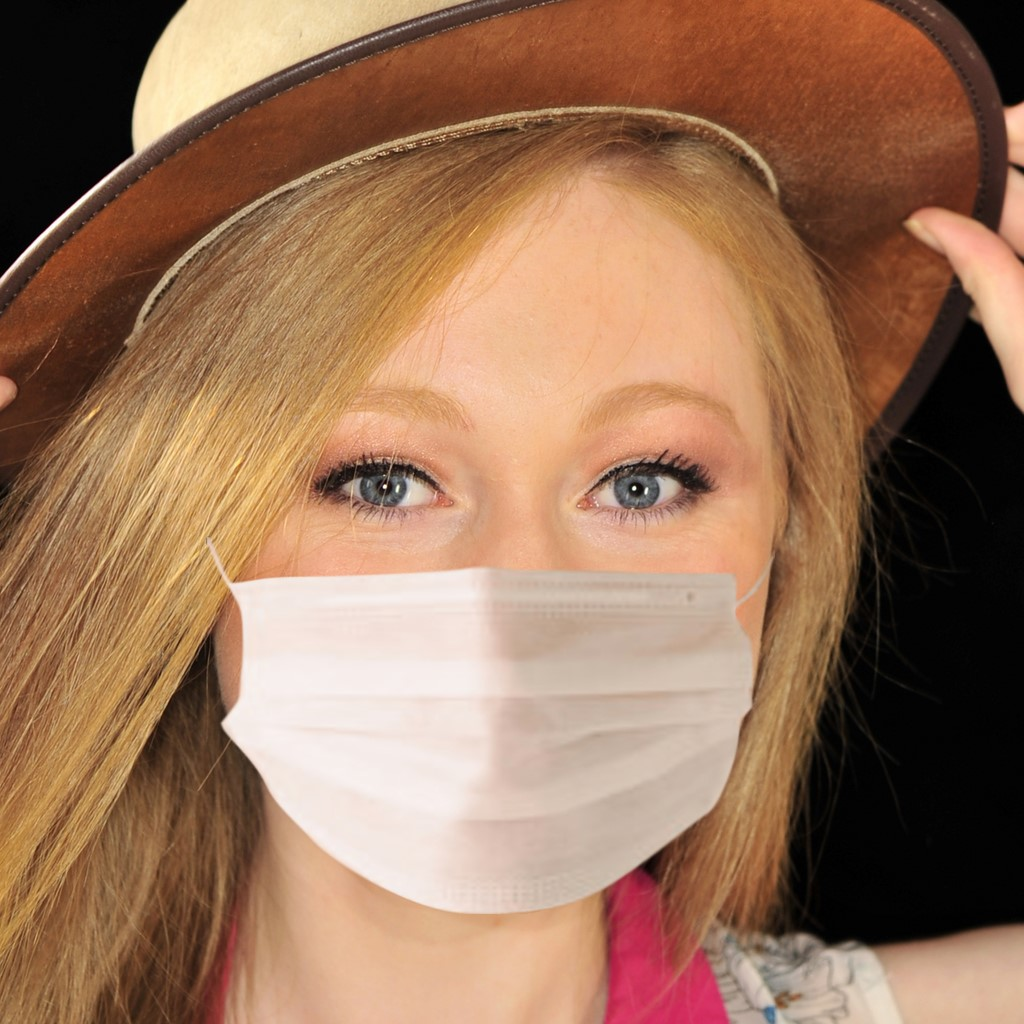con_mascara: (192, 159, 808, 954)
